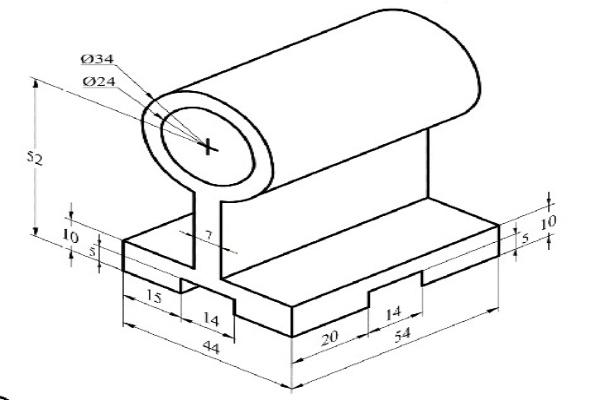dimensions: (389, 322, 419, 350), (76, 47, 117, 67), (24, 147, 53, 171), (81, 73, 121, 88), (198, 310, 226, 331), (198, 337, 226, 358), (316, 330, 344, 350), (538, 212, 562, 235), (142, 286, 168, 307), (57, 226, 82, 245), (383, 303, 406, 323), (521, 228, 533, 246), (84, 244, 99, 258), (203, 228, 215, 243)
